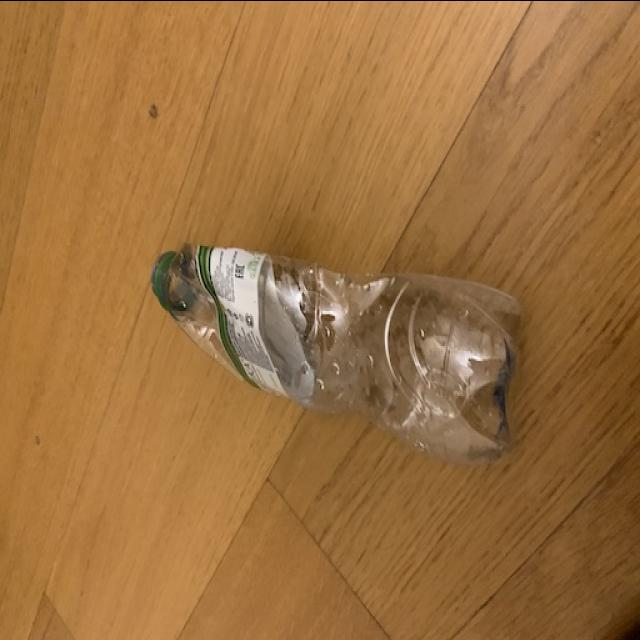PET: (148, 233, 530, 467)
